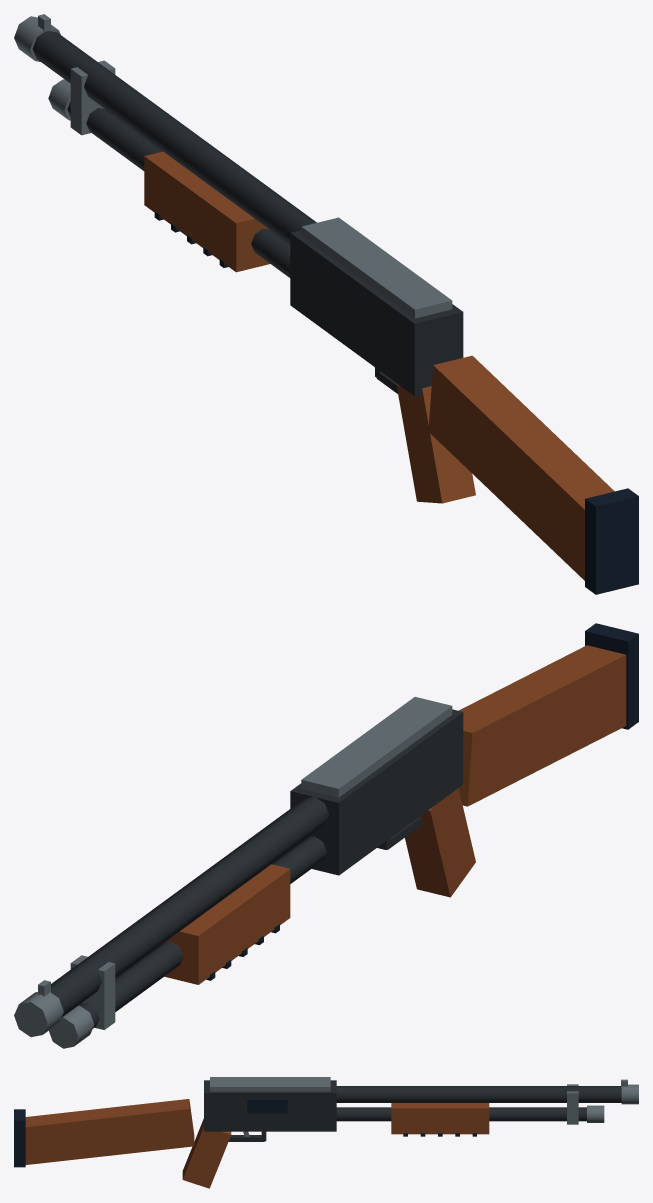
File: shotgun.glb
3 renders of one model, top to bottom at view 1: azimuth 30°, elevation 25°; view 2: azimuth 150°, elevation 25°; view 3: azimuth 270°, elevation 25°, orthographic. The views are drawn at different scales.
Parts seen in each view (by area): view 1: Stock, Receiver, Barrel, Fore, ReceiverTop, ButtPad, Grip, MagTube, BarrelBand, Muzzle; view 2: Stock, Receiver, Barrel, Fore, ReceiverTop, Grip, MagTube, ButtPad, Muzzle, BarrelBand, MagCap; view 3: Stock, Receiver, Barrel, Fore, MagTube, Grip, ReceiverTop, ButtPad, EjectionPort, BarrelBand, Muzzle, MagCap (+1 smaller).
Boxes of the visible parts, x1,y1,x2,y2 form: Stock: (428, 355, 614, 580); Receiver: (290, 230, 463, 396); Barrel: (32, 31, 316, 243); Fore: (144, 151, 269, 272); ReceiverTop: (301, 217, 452, 318); ButtPad: (585, 488, 638, 594); Grip: (396, 385, 475, 503); MagTube: (67, 101, 290, 277); BarrelBand: (70, 60, 115, 135); Muzzle: (14, 16, 60, 61); Stock: (458, 645, 626, 806); Receiver: (290, 709, 463, 875); Barrel: (51, 796, 328, 1017); Fore: (164, 864, 290, 984); ReceiverTop: (301, 697, 452, 797); Grip: (405, 788, 475, 897); MagTube: (79, 836, 326, 1028); ButtPad: (585, 623, 638, 729); Muzzle: (14, 992, 63, 1036); BarrelBand: (70, 955, 115, 1029); MagCap: (49, 1005, 94, 1048); Stock: (25, 1099, 194, 1164); Receiver: (204, 1080, 336, 1131); Barrel: (336, 1086, 621, 1102); Fore: (391, 1103, 489, 1134); MagTube: (336, 1107, 586, 1121); Grip: (182, 1118, 231, 1188); ReceiverTop: (210, 1077, 330, 1091); ButtPad: (14, 1109, 25, 1167); EjectionPort: (247, 1099, 287, 1113); BarrelBand: (567, 1084, 578, 1124); Muzzle: (621, 1084, 638, 1104); MagCap: (587, 1105, 604, 1122).
Bounding box in the file's own units: 0.06 × 0.1992 × 1.09.
